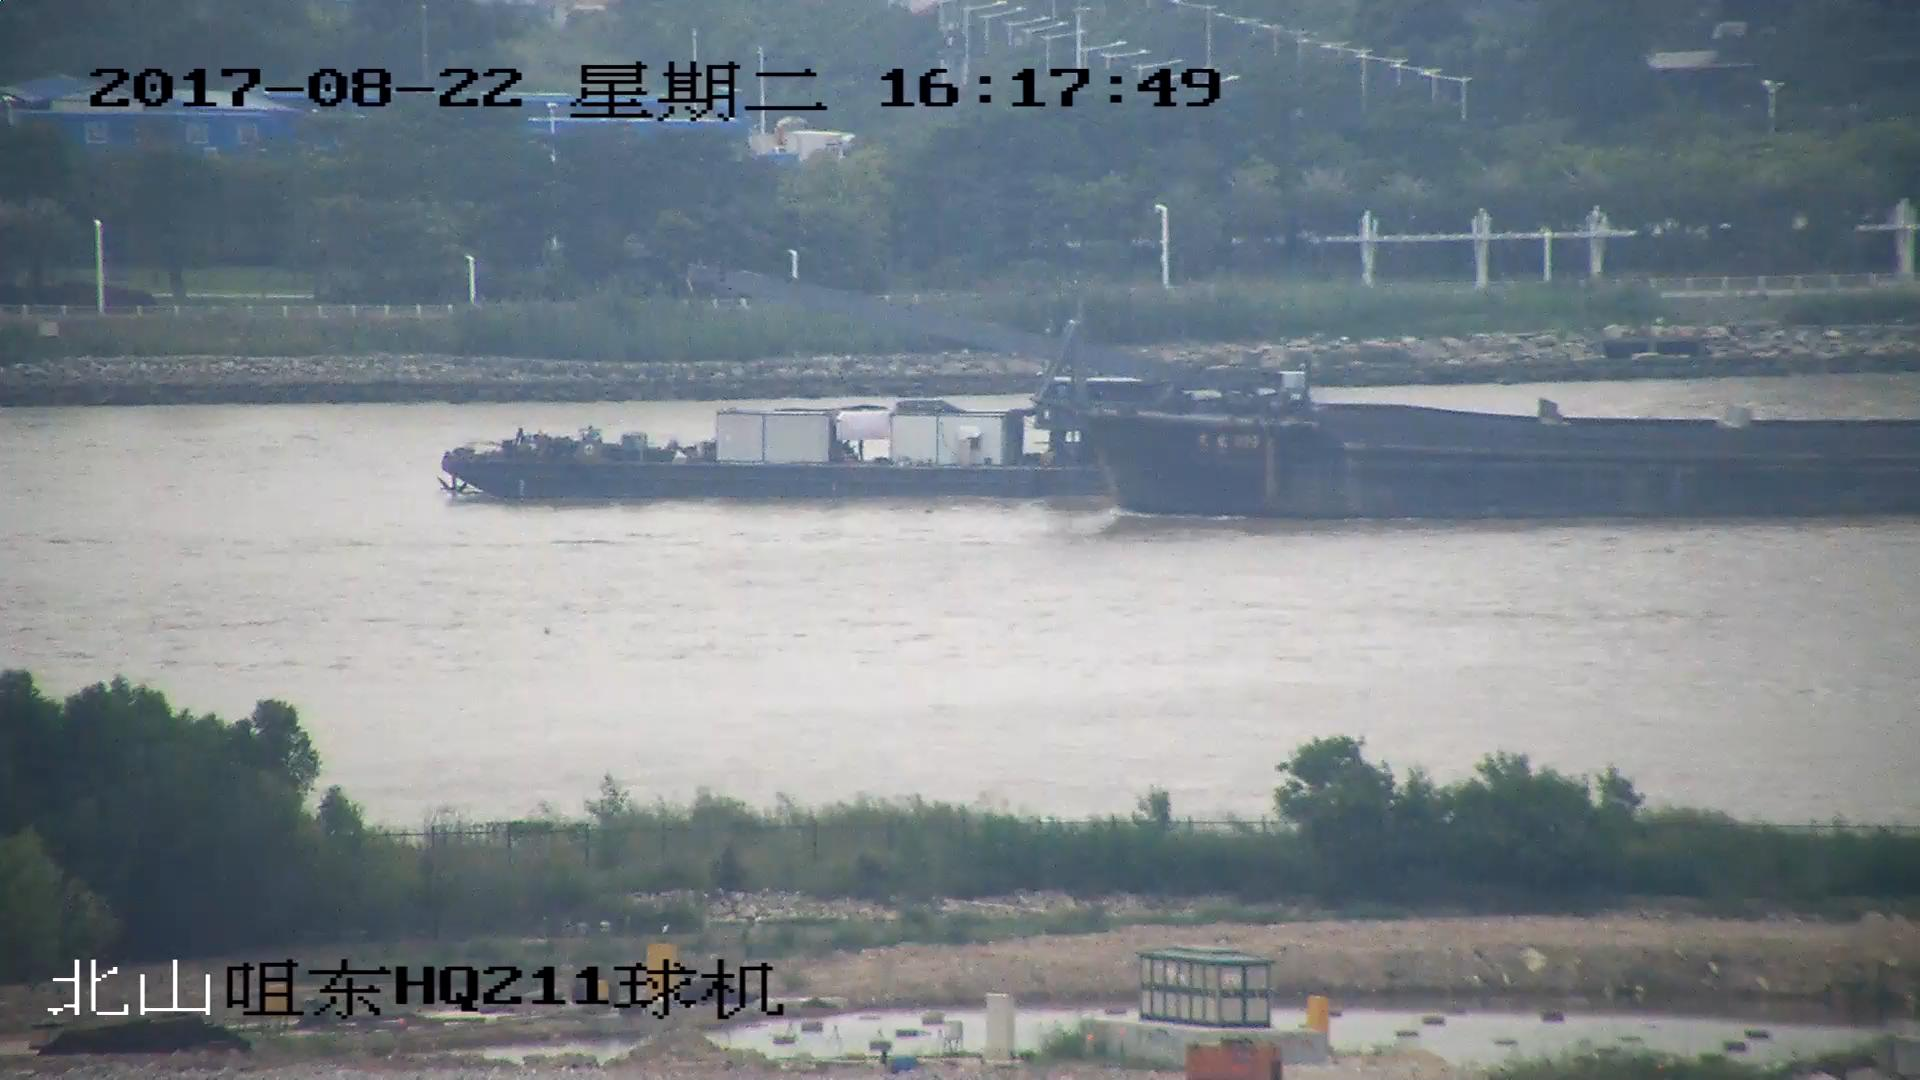bulk cargo carrier: (697, 261, 1920, 522), (444, 376, 1165, 499)
